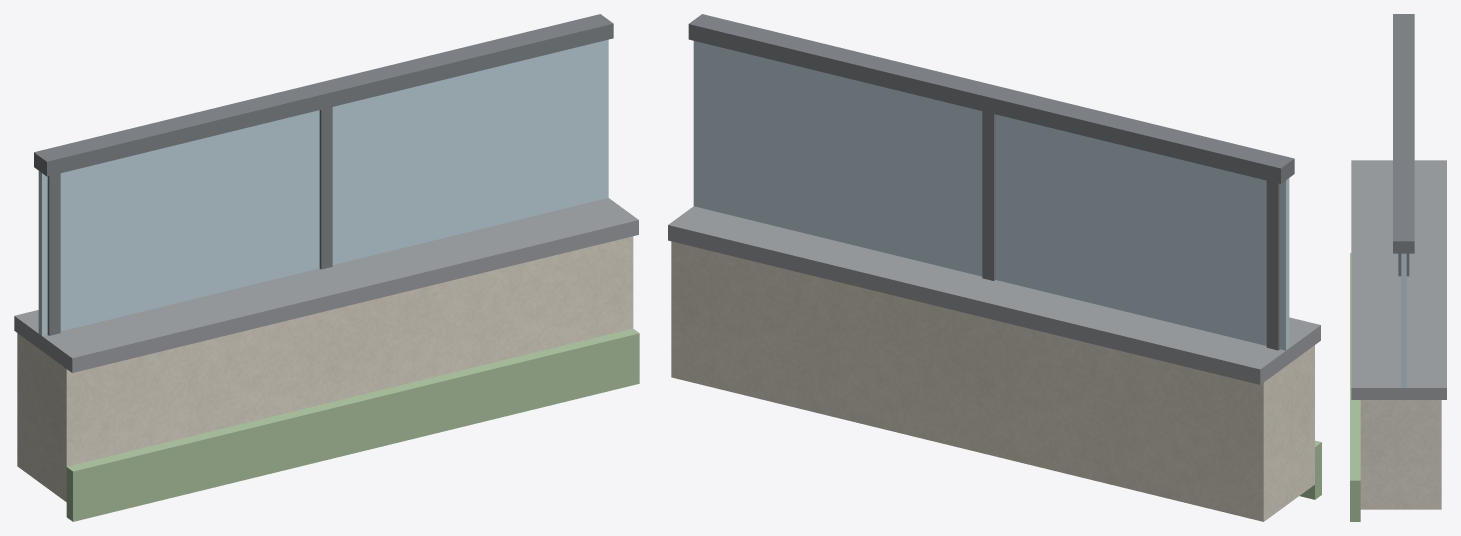
File: parapet.glb
3 views of the same model, side by side, from view 1: azimuth 30°, elevation 25°; view 2: azimuth 150°, elevation 25°; view 3: azimuth 270°, elevation 25° (orthographic). The views are drawn at different scales.
Visible parts, largest first — view 1: parapet_glass, parapet_panel, parapet_band, parapet_coping, parapet_iron; view 2: parapet_glass, parapet_panel, parapet_coping, parapet_iron; view 3: parapet_coping, parapet_panel, parapet_iron, parapet_band, parapet_glass.
Boxes of the visible parts, box(x1,y1,x2,y2) form: parapet_glass: box(38, 39, 608, 335); parapet_panel: box(17, 236, 633, 501); parapet_band: box(66, 328, 639, 521); parapet_coping: box(14, 198, 638, 372); parapet_iron: box(34, 14, 613, 335); parapet_glass: box(693, 41, 1289, 350); parapet_panel: box(671, 241, 1314, 521); parapet_coping: box(668, 206, 1320, 384); parapet_iron: box(688, 14, 1294, 350); parapet_coping: box(1351, 160, 1446, 399); parapet_panel: box(1360, 400, 1441, 509); parapet_iron: box(1393, 14, 1414, 276); parapet_band: box(1350, 253, 1360, 521); parapet_glass: box(1401, 253, 1406, 387).
Size of the model in its own units: 2 by 1.15 by 0.36.
5 materials, 1 textured.
